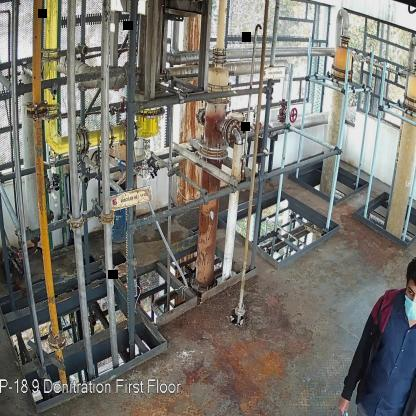no_goggles: (405, 286, 416, 303)
